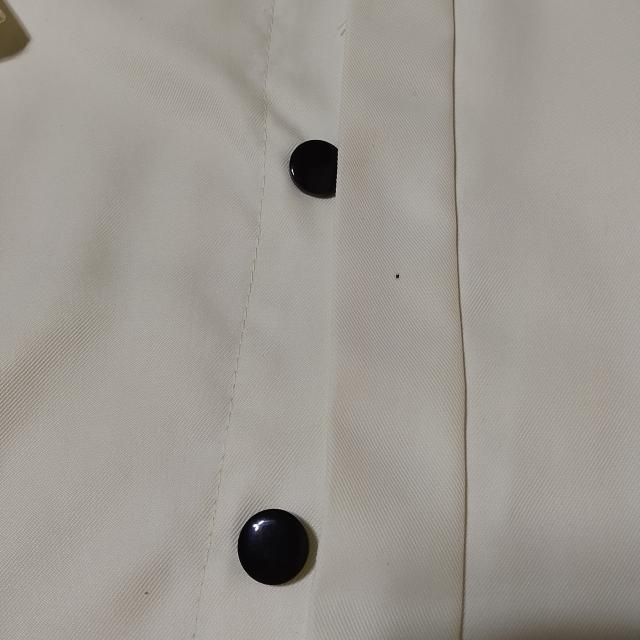education_male_uniform: (83, 35, 627, 640)
